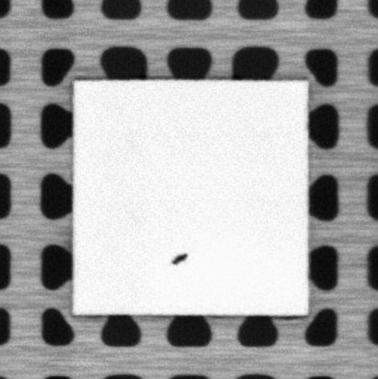DIE_INK: (170, 250, 190, 266)
